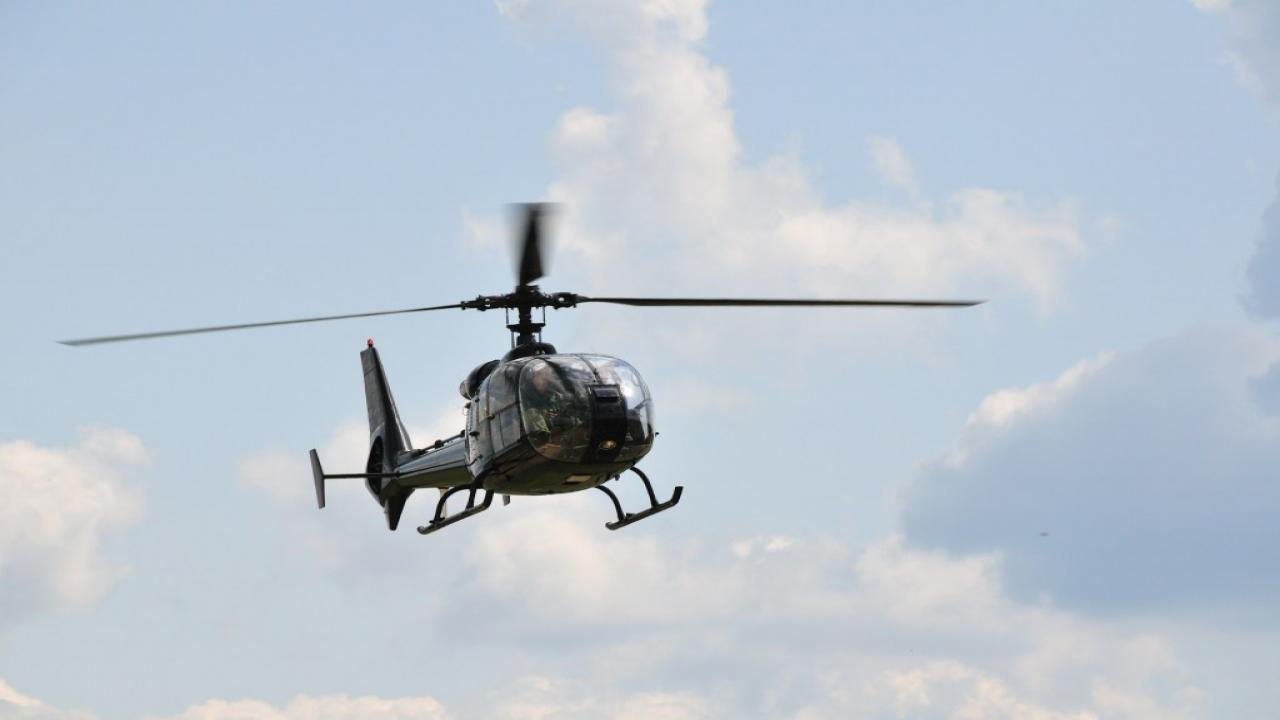Helicopter: (34, 170, 1009, 567)
